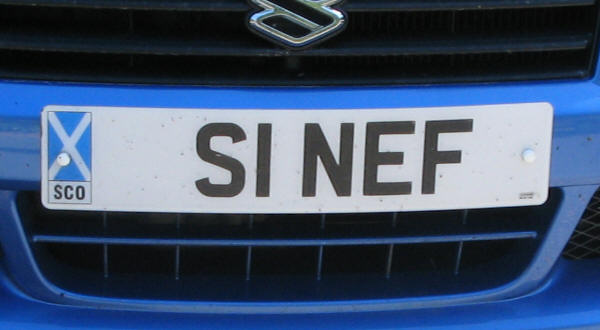license_plate: (42, 103, 554, 214)
